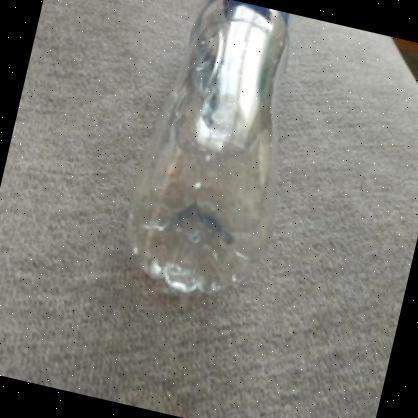bottle: (96, 0, 317, 322)
